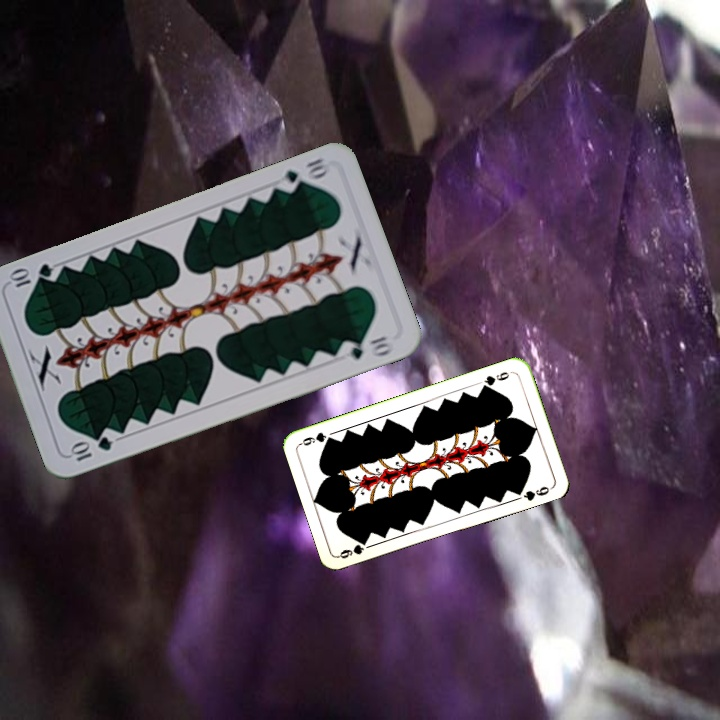G10: (277, 154, 333, 196), (66, 432, 115, 464)
G9: (478, 368, 512, 392), (335, 537, 369, 561)
